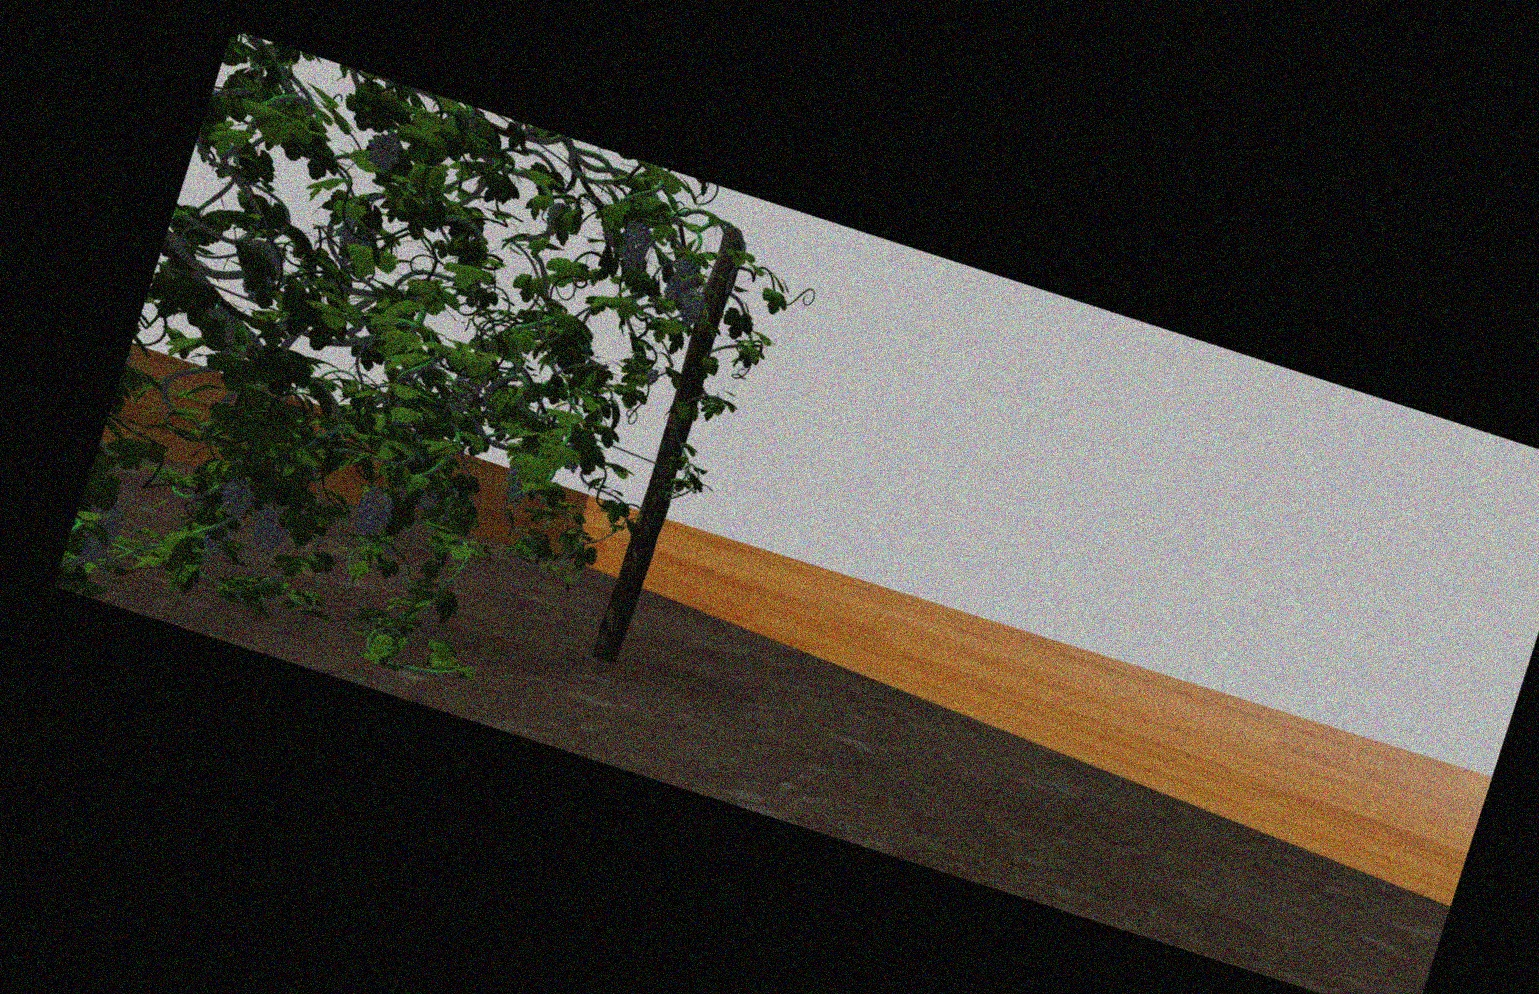grape: (81, 498, 119, 569), (354, 489, 389, 544), (251, 506, 288, 553), (619, 221, 648, 270), (366, 134, 400, 171), (220, 480, 254, 516), (669, 258, 695, 302), (503, 470, 528, 506), (680, 292, 703, 325)
